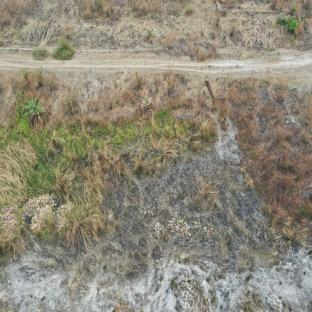vegetation: (0, 106, 208, 217)
